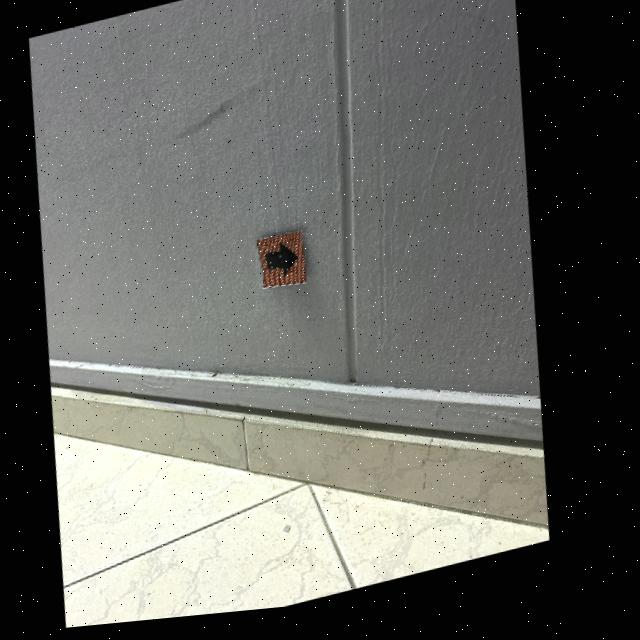RIGHT: (272, 249, 303, 282)
